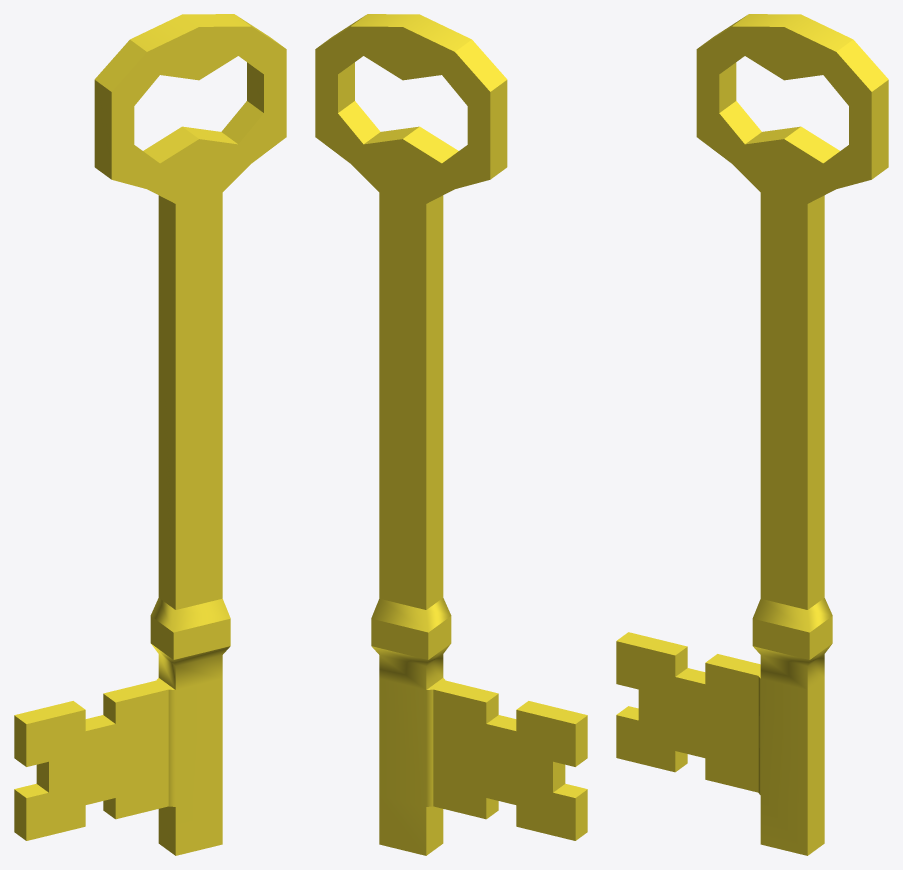
The model's file is Key_01(1).gltf.
The picture shows the model from 3 angles, left to right: view 1: azimuth 30°, elevation 25°; view 2: azimuth 150°, elevation 25°; view 3: azimuth 330°, elevation 25°; orthographic projection.
Parts seen in each view (by area): view 1: node-0; view 2: node-0; view 3: node-0.
Boxes of the visible parts, box(x1,y1,x2,y2) form: node-0: box(14, 14, 286, 855); node-0: box(315, 14, 587, 855); node-0: box(616, 14, 888, 855).
Bounding box in the file's own units: 38.35 × 117 × 5.92.
